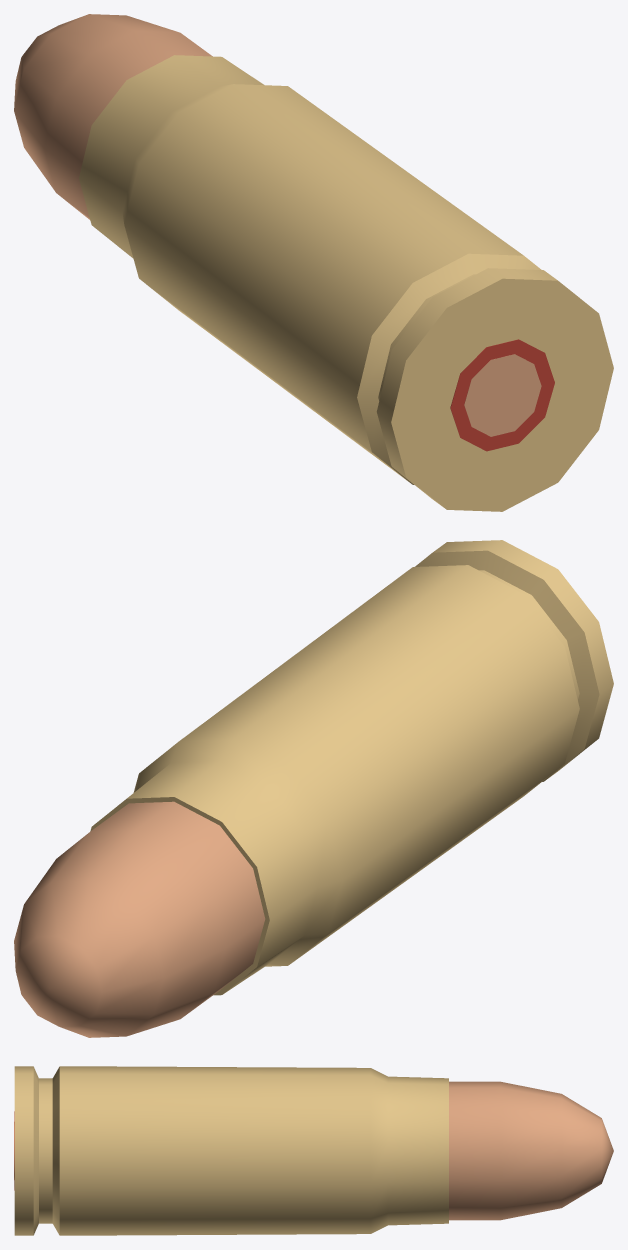
File: round_762x25.glb
The picture shows the model from 3 angles, top to bottom: view 1: azimuth 30°, elevation 25°; view 2: azimuth 150°, elevation 25°; view 3: azimuth 270°, elevation 25°; orthographic projection. The views are drawn at different scales.
Parts seen in each view (by area): view 1: body; view 2: body; view 3: body.
Part boxes in pixels (x1,y1,x2,y2): body: [14, 14, 613, 511]; body: [14, 540, 613, 1037]; body: [14, 1066, 613, 1235].
Size of the model in its own units: 0.0098 by 0.0098 by 0.0345.
